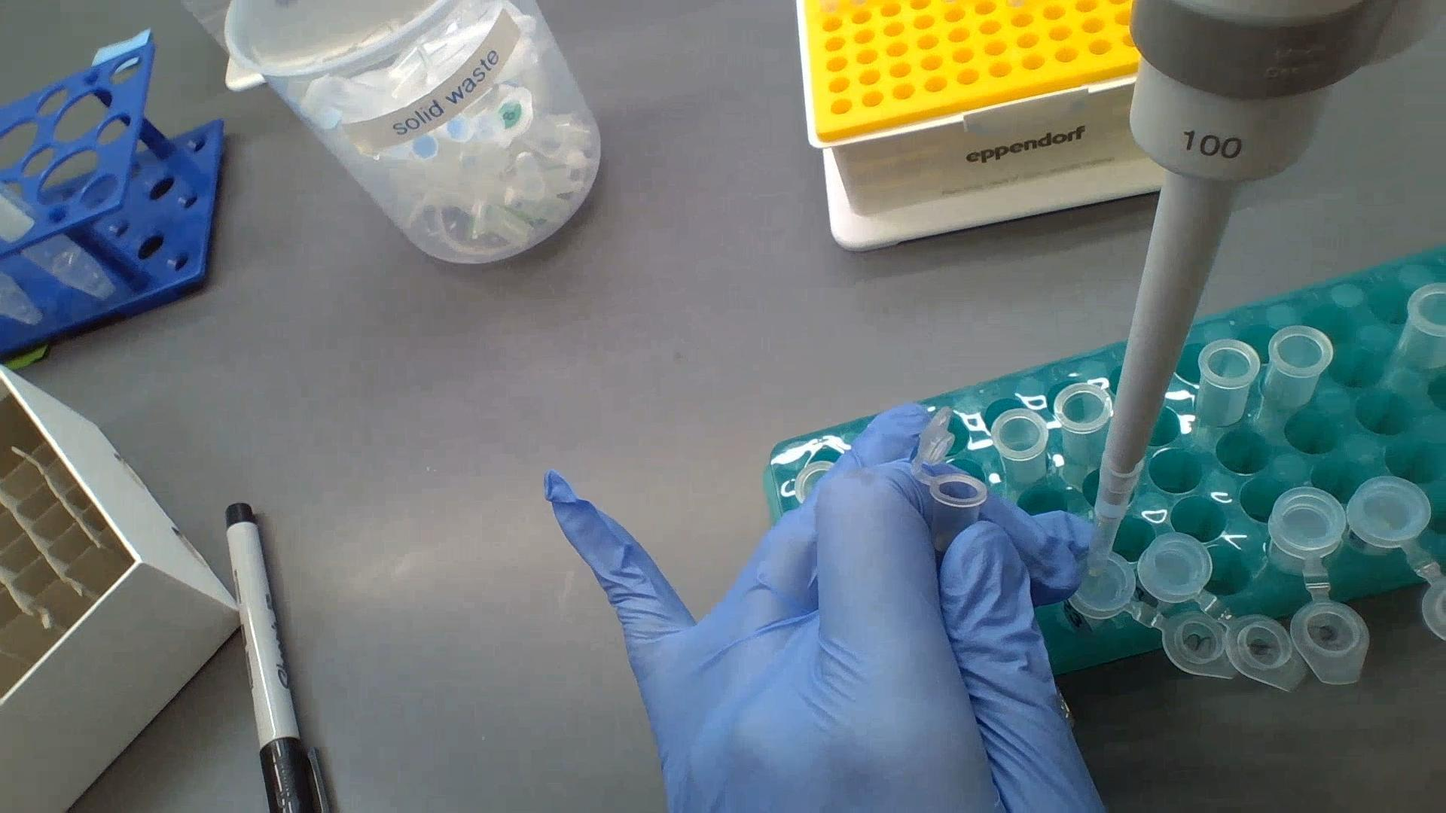pipette: (1088, 0, 1441, 572)
